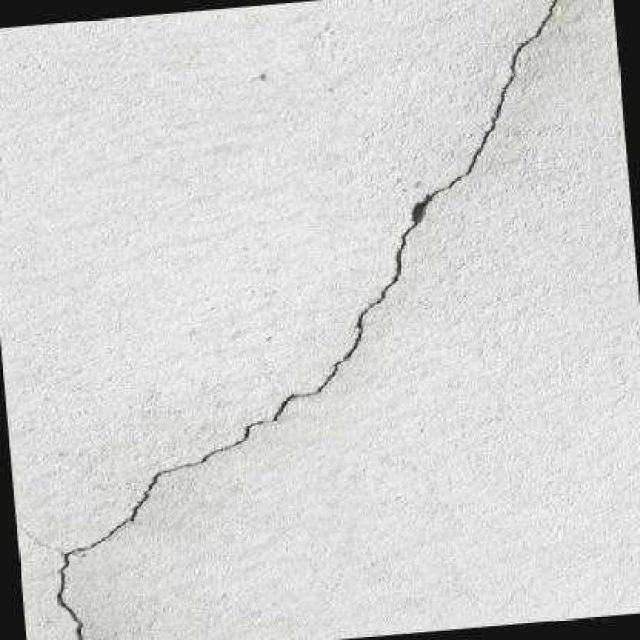D00: (56, 0, 557, 640)
